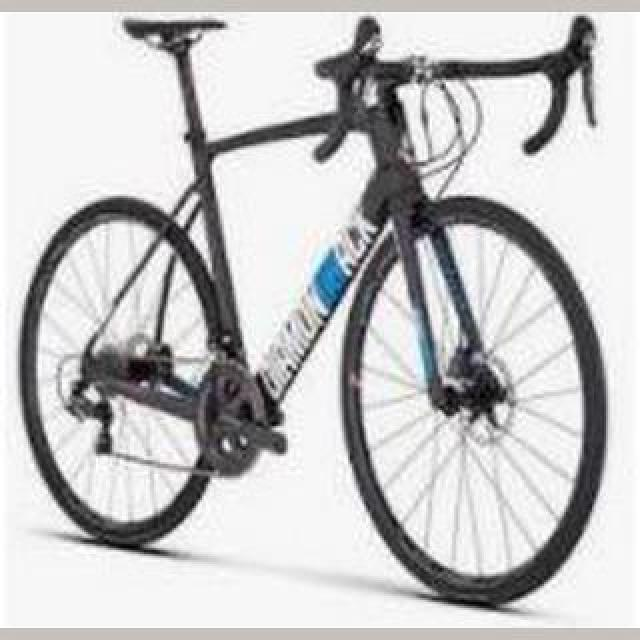Person: (17, 12, 609, 608)
